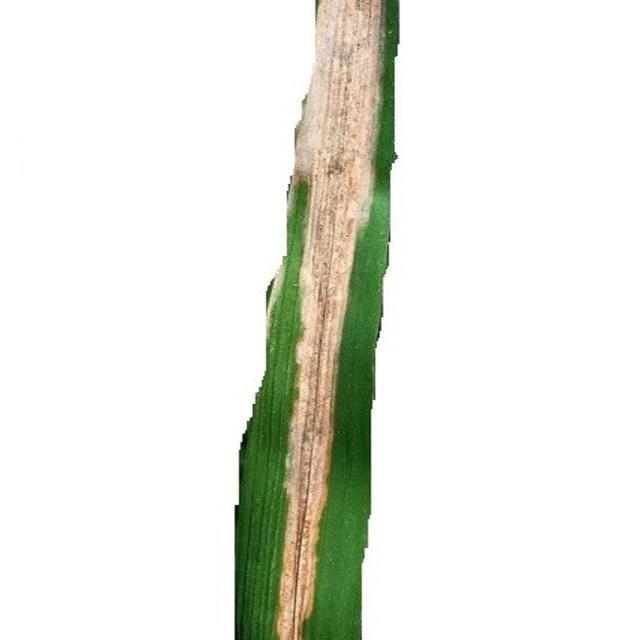Bacterial leaf blight: (276, 0, 393, 640)
